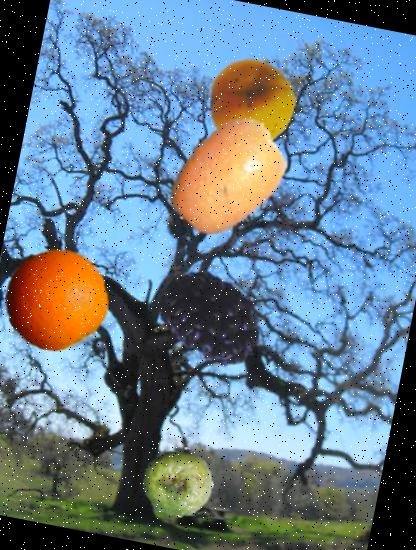Kumquats: (154, 101, 302, 250)
Limes: (137, 441, 219, 523)
Mulberry: (147, 253, 276, 382)
Orange: (0, 238, 116, 360)
Peach: (200, 50, 306, 156)
